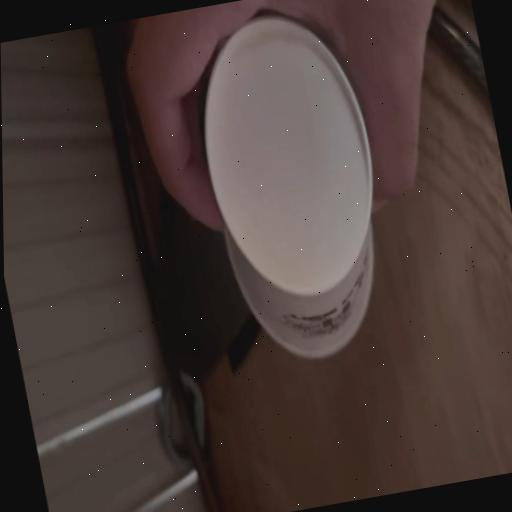Ly_giay: (203, 14, 373, 356)
